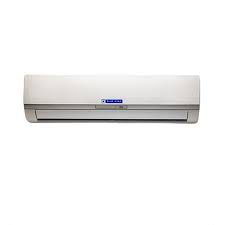ac: (21, 69, 207, 132)
